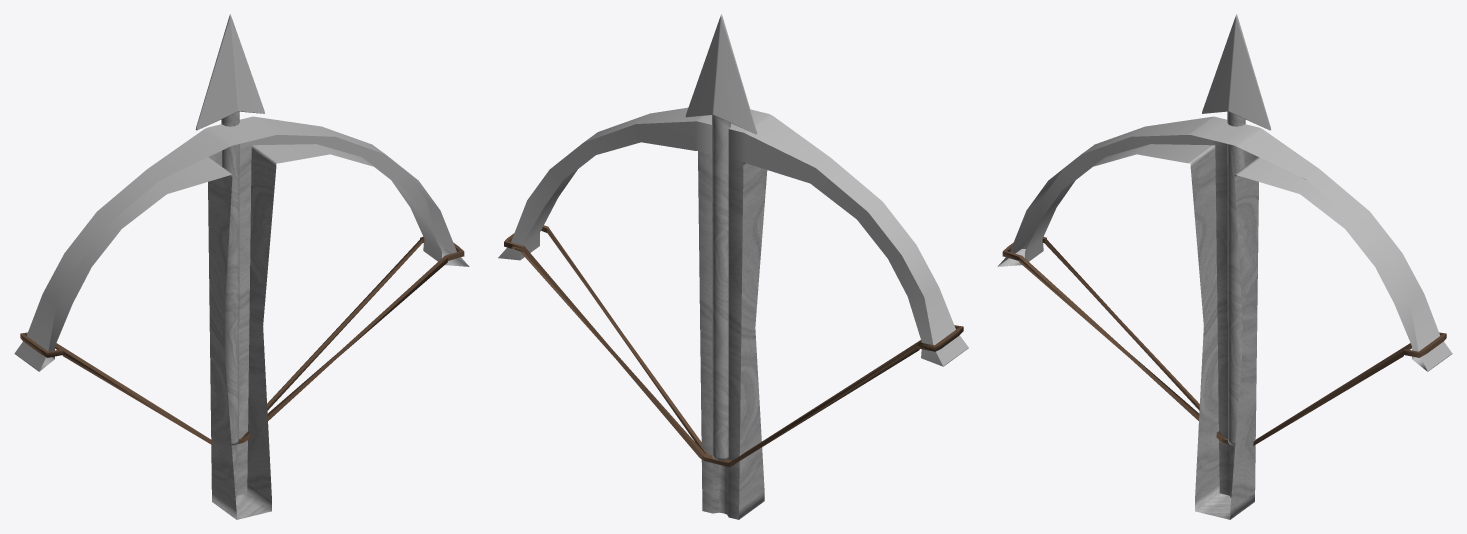
Rendered from CrossBow.fbx.
3 views of the same model, side by side, from view 1: azimuth 30°, elevation 25°; view 2: azimuth 150°, elevation 25°; view 3: azimuth 330°, elevation 25° (orthographic). The views are drawn at different scales.
Parts seen in each view (by area): view 1: Circle, Circle.004; view 2: Circle, Circle.004; view 3: Circle, Circle.004.
Part boxes in pixels (left/top/right/bottom): Circle: left=14, top=116, right=469, bottom=519; Circle.004: left=195, top=14, right=264, bottom=445; Circle: left=498, top=107, right=968, bottom=519; Circle.004: left=685, top=14, right=757, bottom=460; Circle: left=997, top=116, right=1452, bottom=519; Circle.004: left=1202, top=14, right=1271, bottom=445.
Size of the model in its own units: 0.9536 by 1.02 by 0.1302.
